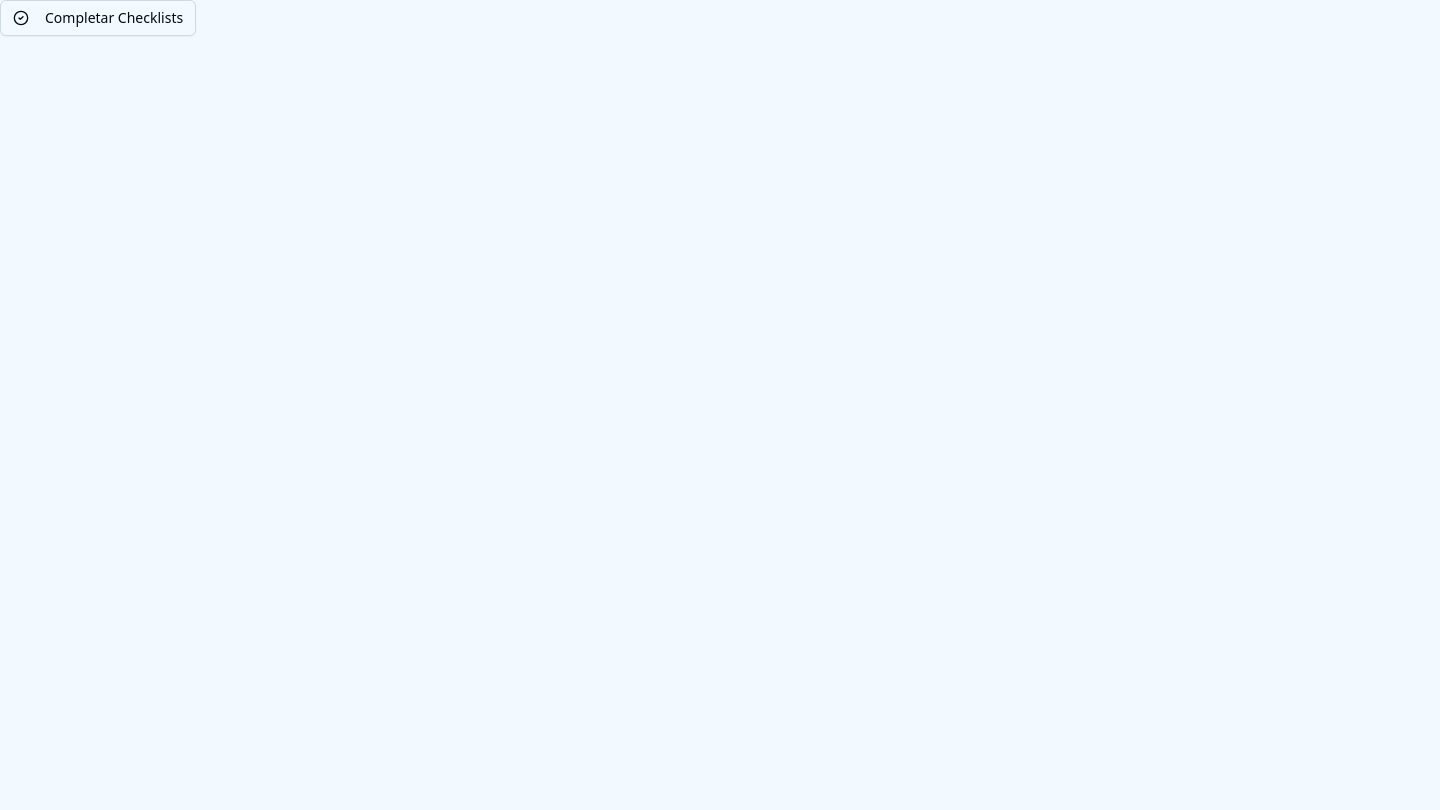
ChecklistCompletionModal › should display checklists when loaded
Click the button "Completar Checklists". click: (98, 18)
box: [0, 0, 196, 36]
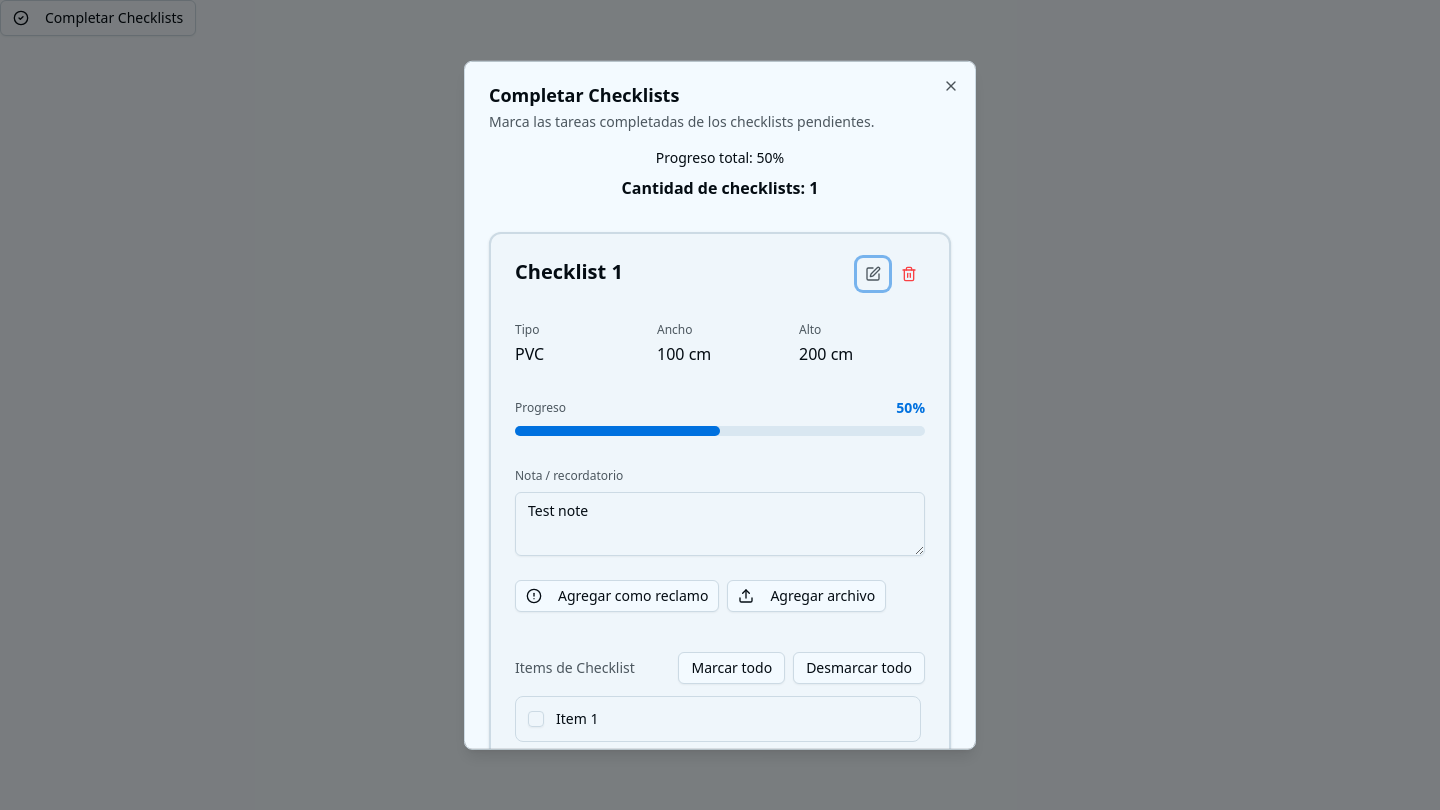
Expected: the heading "Checklist 1" is shown, [515, 258, 623, 285]
